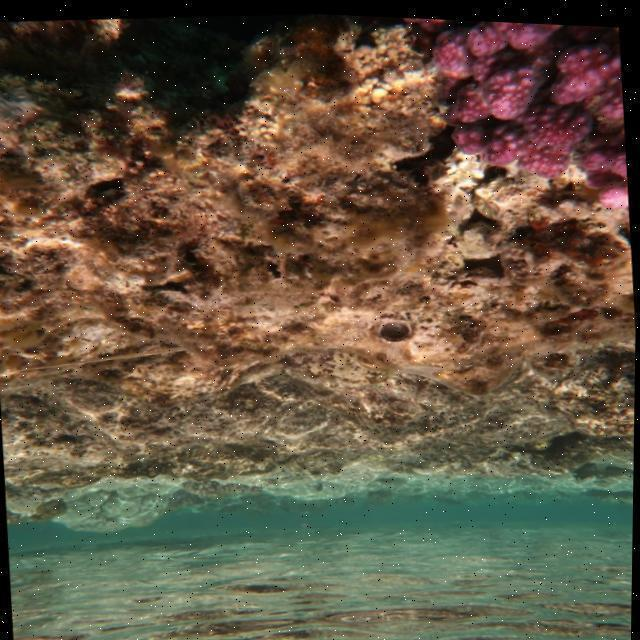Healthy Coral: (387, 14, 631, 222)
